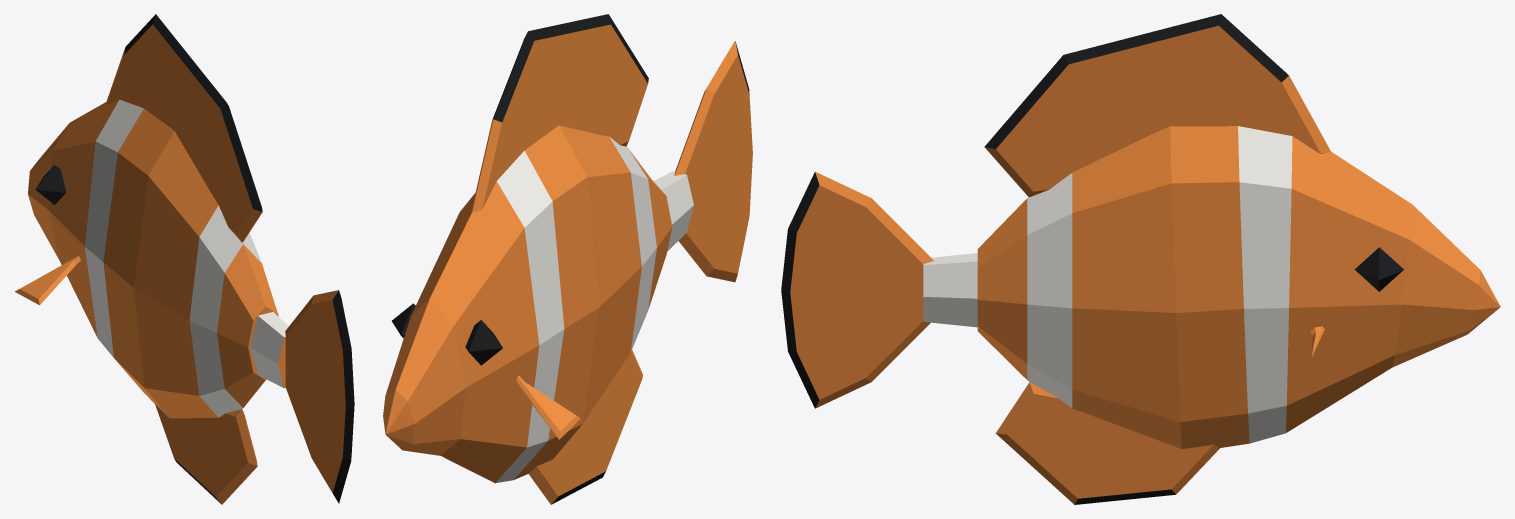
Rendered from fish_b.glb.
The picture shows the model from 3 angles, left to right: view 1: azimuth 30°, elevation 25°; view 2: azimuth 150°, elevation 25°; view 3: azimuth 270°, elevation 25°; orthographic projection. The views are drawn at different scales.
Parts seen in each view (by area): view 1: fish_b__body, fish_b__tail; view 2: fish_b__body, fish_b__tail; view 3: fish_b__body, fish_b__tail.
Part boxes in pixels (bbox=[...]): fish_b__body: bbox=[14, 14, 278, 504]; fish_b__tail: bbox=[250, 290, 354, 503]; fish_b__body: bbox=[383, 14, 672, 504]; fish_b__tail: bbox=[653, 41, 752, 282]; fish_b__body: bbox=[977, 14, 1500, 504]; fish_b__tail: bbox=[781, 171, 977, 408].
Size of the model in its own units: 0.0804 by 0.24 by 0.3188.
Materials: 1 (1 with a texture image).
